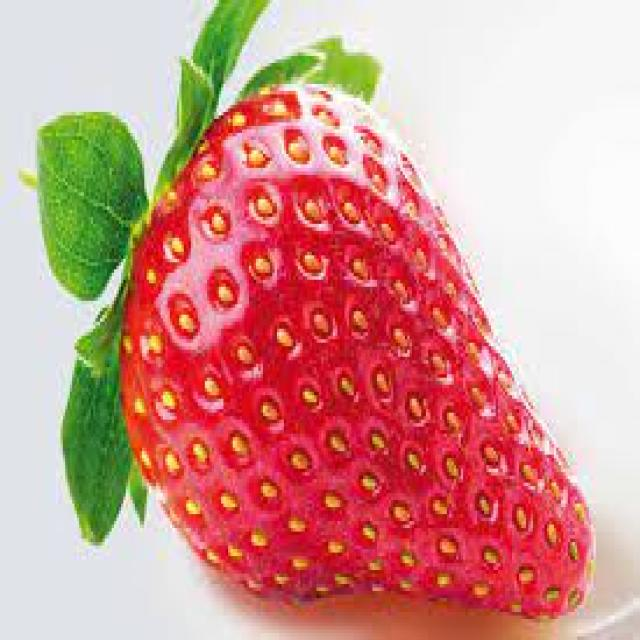strawberry: (103, 77, 598, 626)
